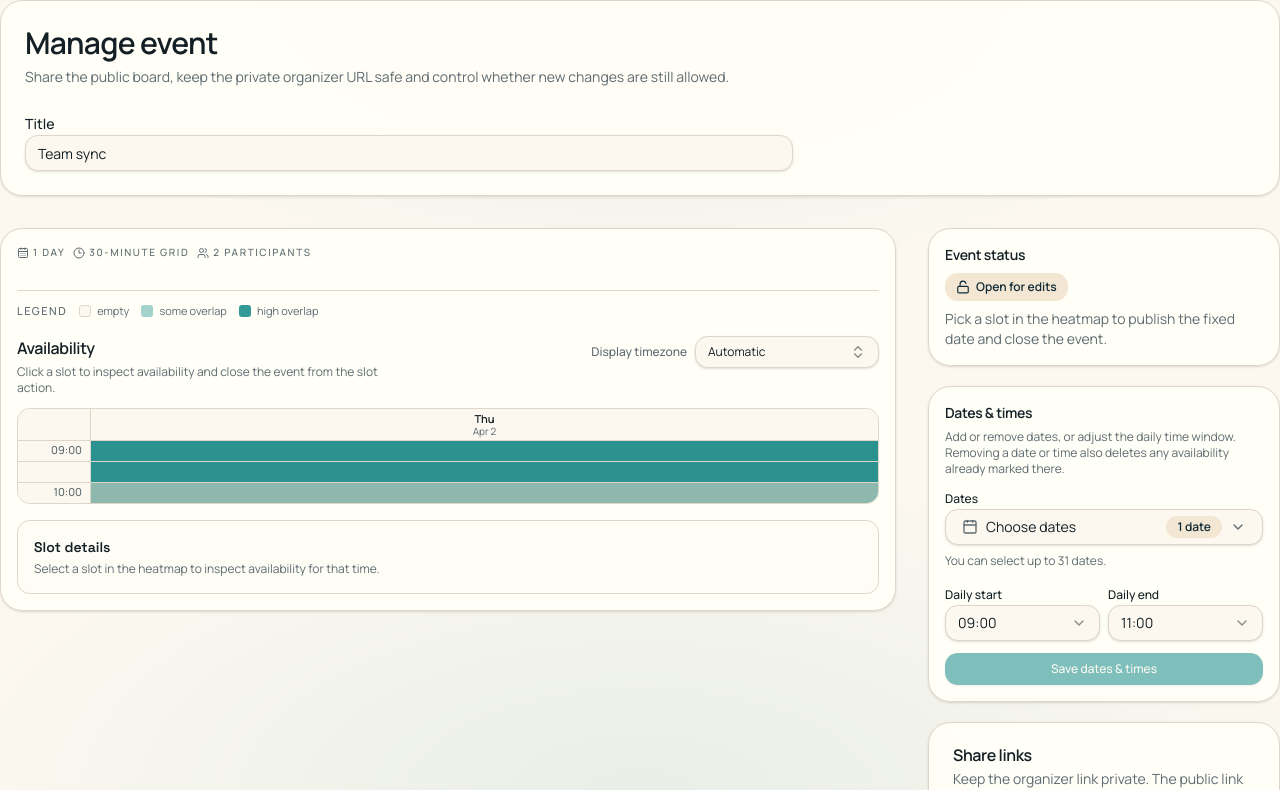
Test case: ManageEventClient › closes the event directly from the selected slot without requiring a separate save
The width and height of the screenshot is (1280, 790).
Click the button named "Thu, Apr 2 09:00 · 2/2 available". click: click(484, 450)
box: x1=91 y1=440 x2=878 y2=460
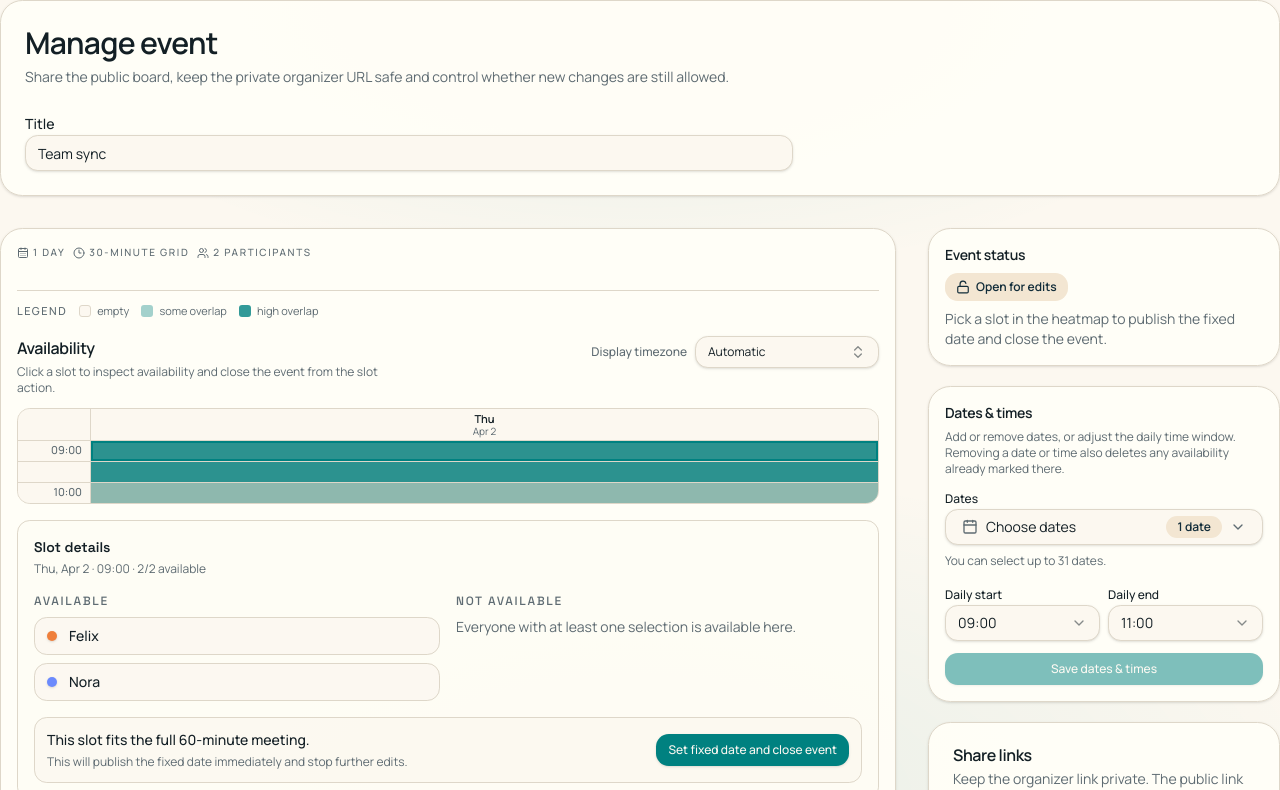
Expected: the text "This slot fits the full 60-minute meeting." is shown, x1=47 y1=730 x2=310 y2=748
Expected: the button "Set fixed date and close event" is shown
Click the button "Set fixed date and close event". click: click(753, 750)
box: x1=656 y1=734 x2=849 y2=766
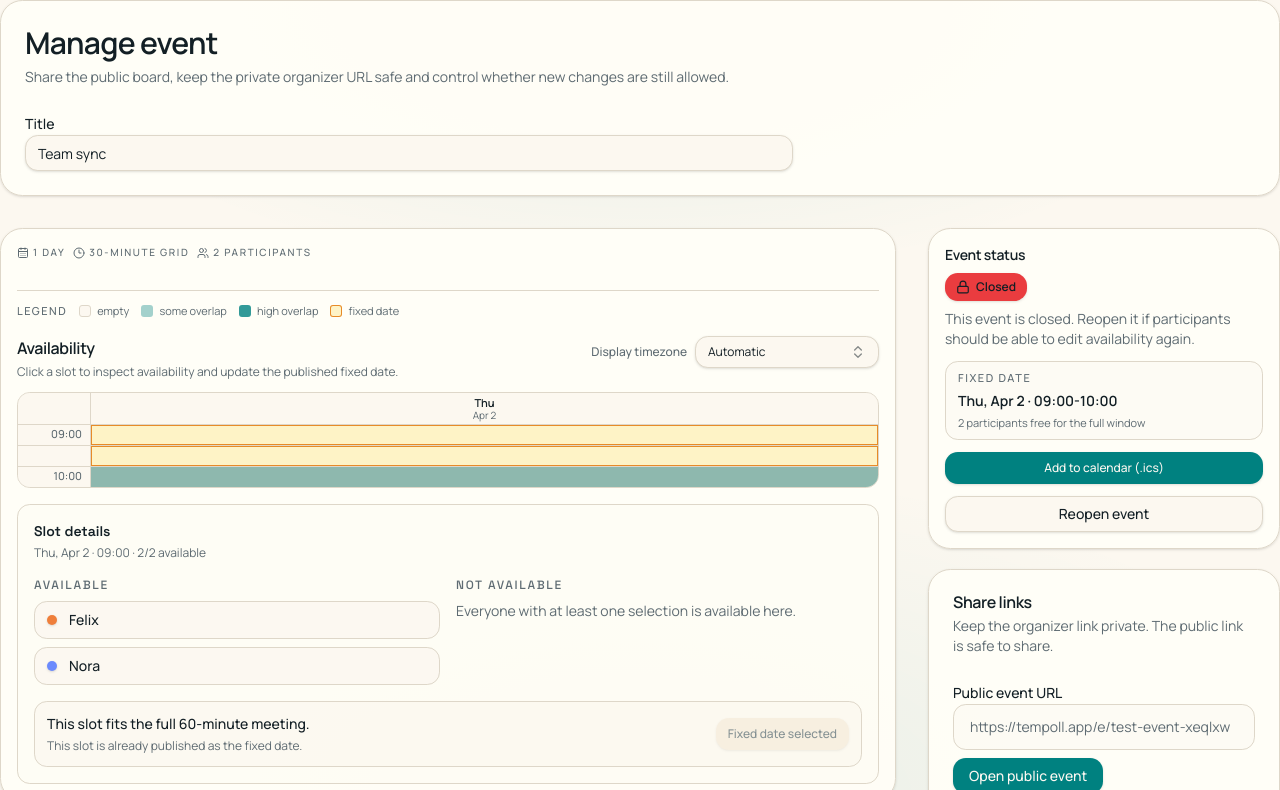
Expected: the text "Closed" is shown, x1=945 y1=273 x2=1027 y2=301
Expected: the link "Add to calendar (.ics)" is shown, x1=945 y1=452 x2=1263 y2=484
